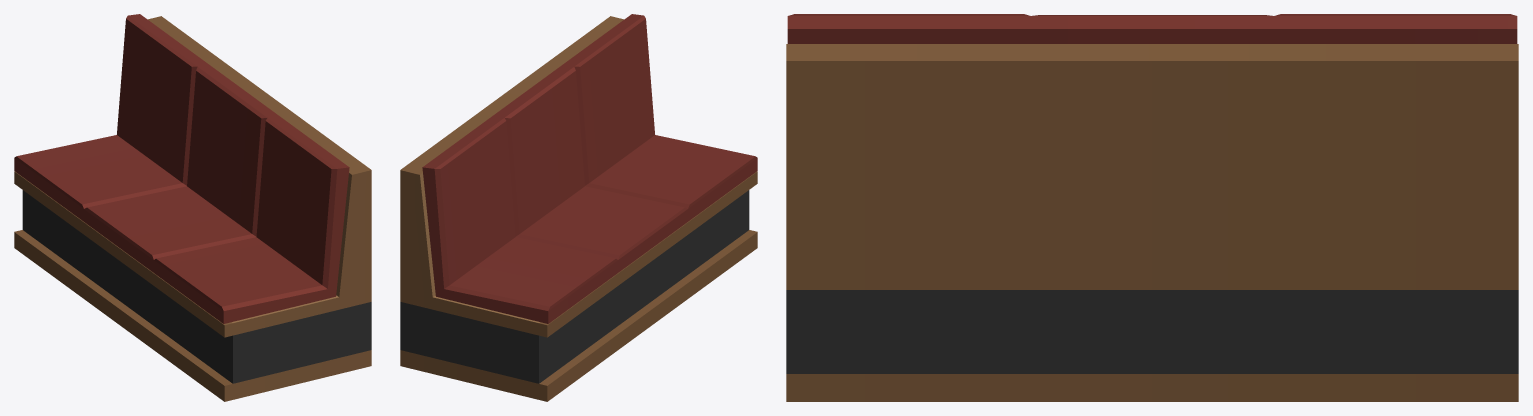
The model's file is B01_Divant.fbx.
3 renders of one model, left to right at view 1: azimuth 30°, elevation 25°; view 2: azimuth 150°, elevation 25°; view 3: azimuth 270°, elevation 25°, orthographic. The views are drawn at different scales.
Visible parts, largest first — view 1: B01_Divant; view 2: B01_Divant; view 3: B01_Divant.
Boxes of the visible parts, <box> form: B01_Divant: <box>14,14,371,401</box>; B01_Divant: <box>400,14,757,401</box>; B01_Divant: <box>786,14,1518,401</box>.
Size of the model in its own units: 165 by 219 by 408.
